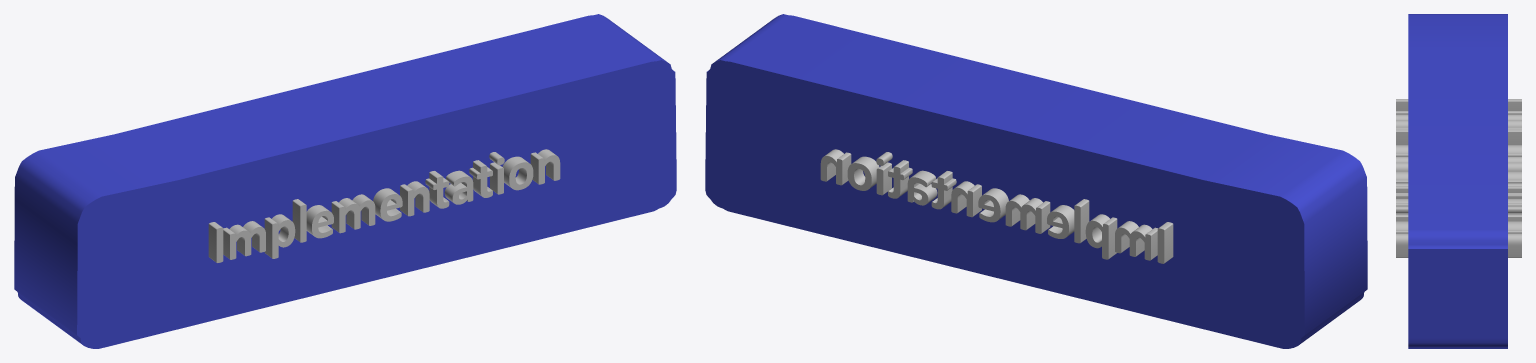
The model's file is implemodel.fbx.
3 views of the same model, side by side, from view 1: azimuth 30°, elevation 25°; view 2: azimuth 150°, elevation 25°; view 3: azimuth 270°, elevation 25° (orthographic). The views are drawn at different scales.
Parts seen in each view (by area): view 1: root, node_id102; view 2: root, node_id102; view 3: root, node_id102.
Boxes of the visible parts, <box> form: root: <box>14,14,676,348</box>; node_id102: <box>208,149,560,262</box>; root: <box>705,14,1367,348</box>; node_id102: <box>820,149,1173,263</box>; root: <box>1408,14,1507,348</box>; node_id102: <box>1396,99,1521,257</box>.
Bounding box in the file's own units: 0.4211 × 0.1022 × 0.0968.
